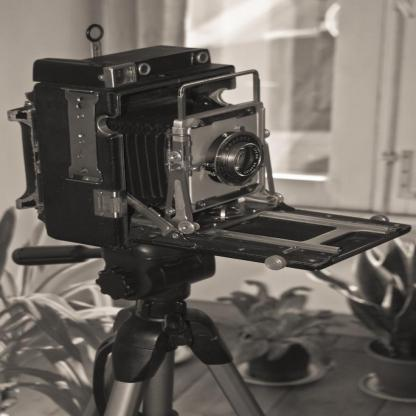Camera: (11, 25, 415, 273)
